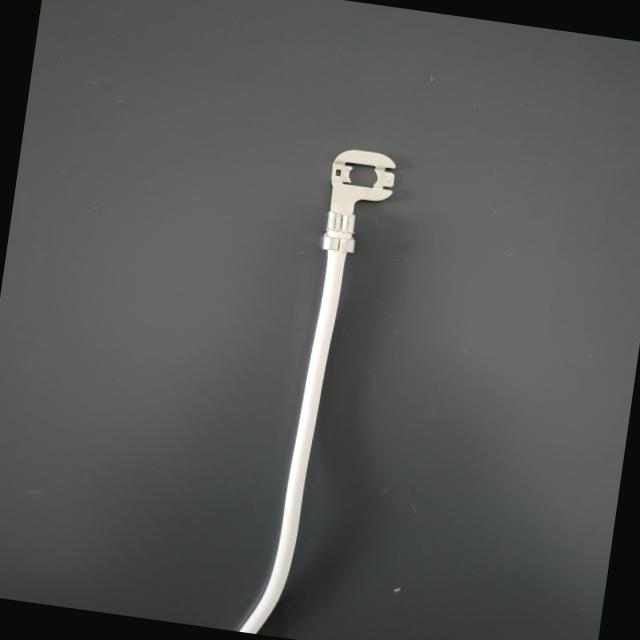defect: (235, 187, 396, 294)
